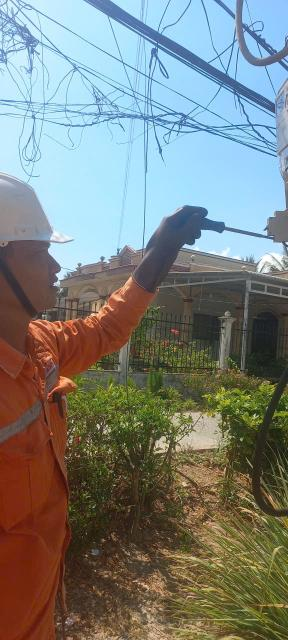gloves: (108, 195, 234, 298)
helmet: (0, 135, 78, 271)
